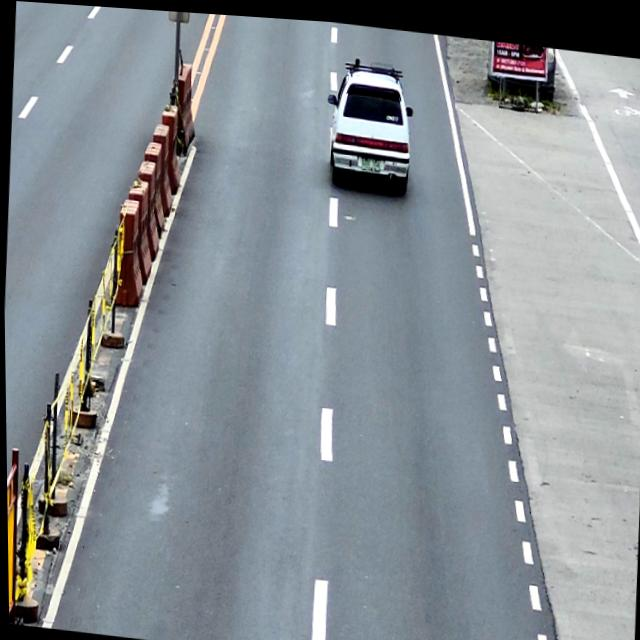Car: (322, 50, 417, 192)
License-Plate: (360, 151, 381, 168)
